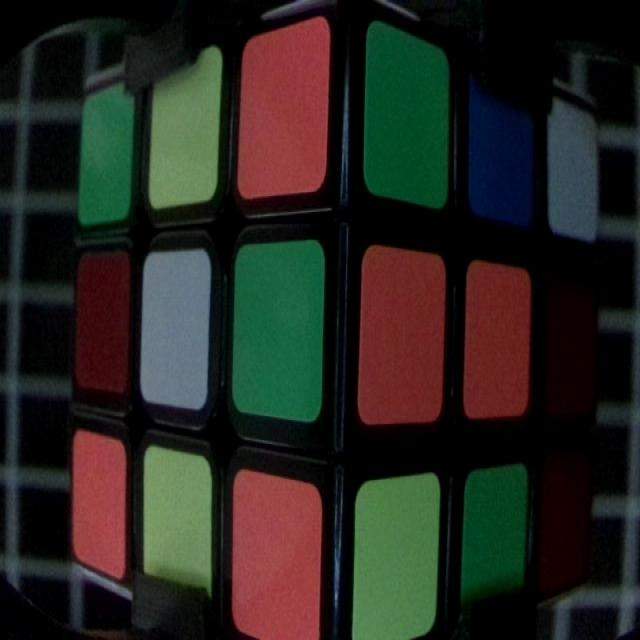b: (472, 67, 539, 220)
g: (235, 250, 320, 412), (369, 35, 447, 197), (466, 468, 525, 606), (79, 84, 132, 217)
o: (241, 25, 326, 195), (232, 476, 322, 633), (364, 250, 447, 416), (469, 262, 528, 406), (73, 432, 126, 566)
r: (80, 259, 130, 382), (548, 280, 594, 400), (550, 465, 588, 577)
w: (146, 252, 206, 392), (545, 96, 599, 235)
y: (350, 479, 439, 636), (146, 452, 212, 614), (152, 49, 221, 202)
